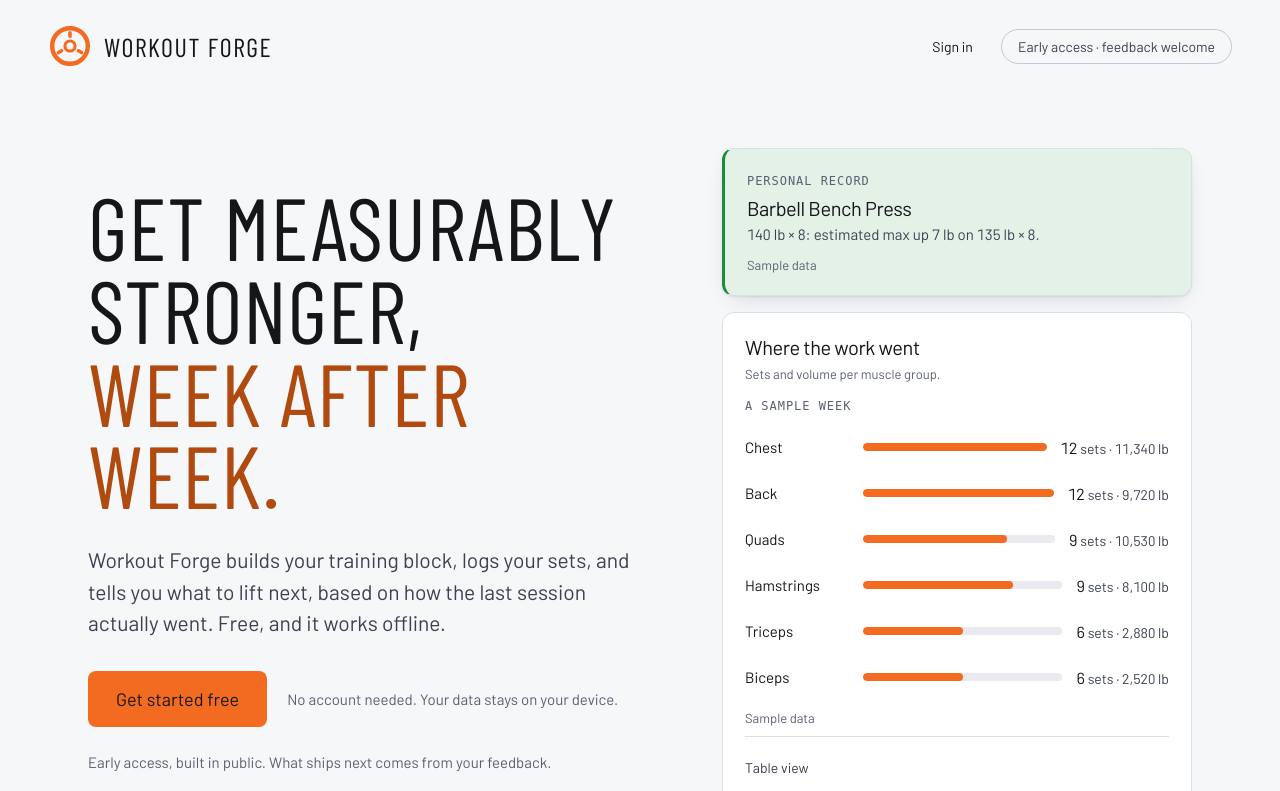
Test: setup: the goal card › names a 12-week choice a program
The width and height of the screenshot is (1280, 791).
Click the button "Get started free" at (178, 699), box 88,671 -> 267,727
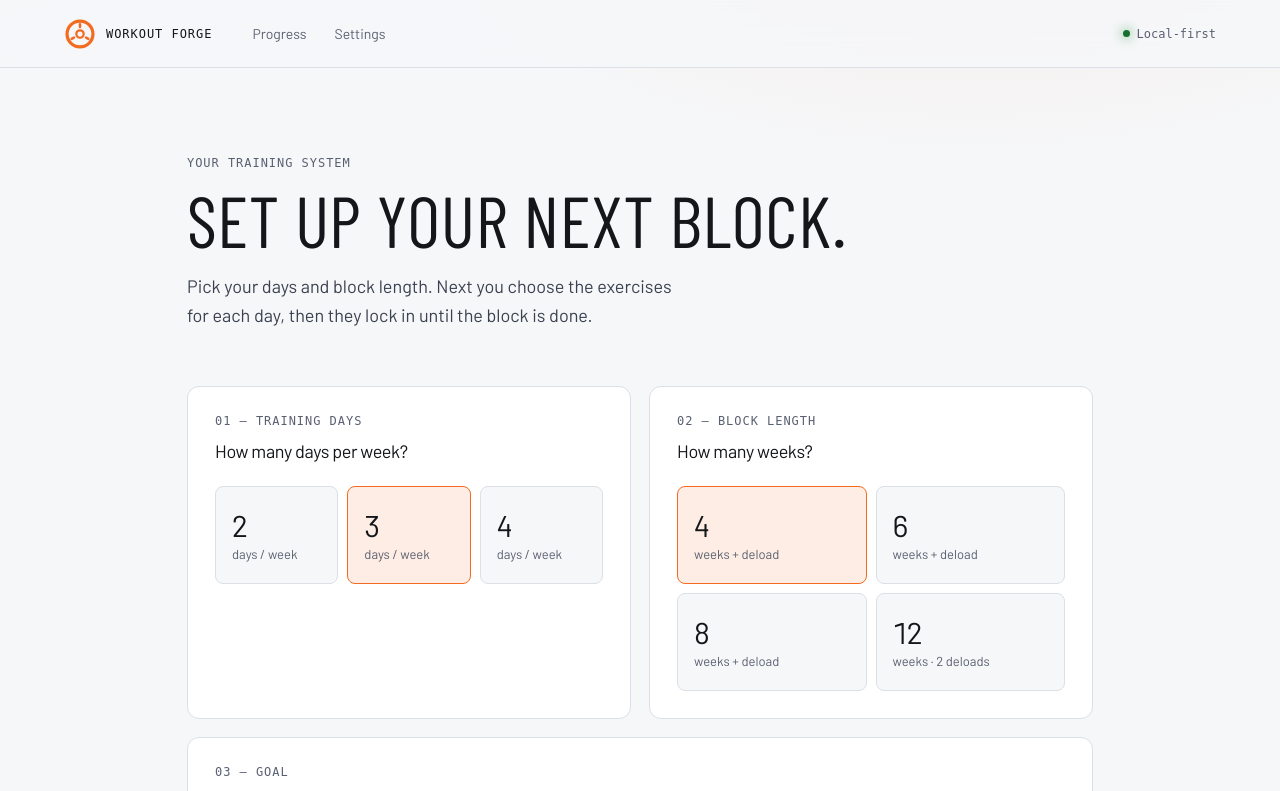
Click the button "12 weeks · 2 deloads" at (970, 642), box 876,593 -> 1065,691
(page scrolled)
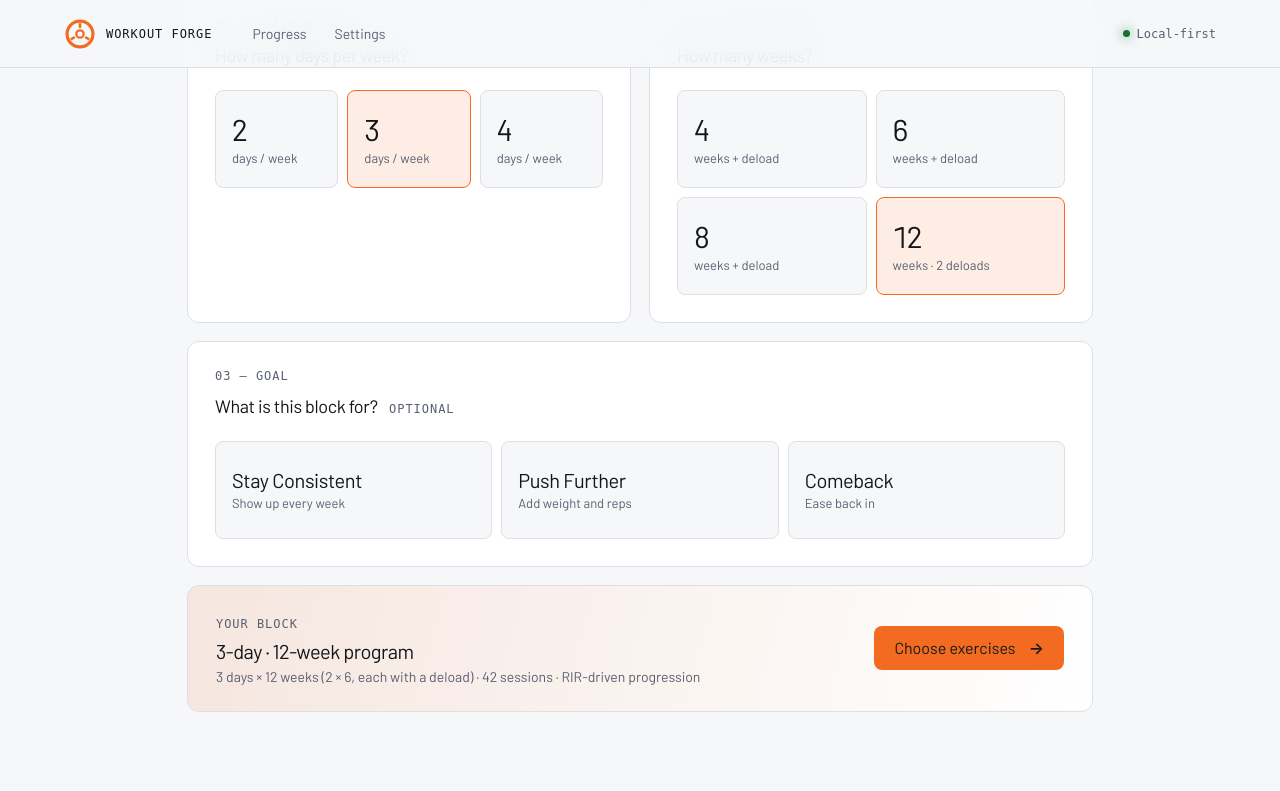
Click the button "Stay Consistent Show up every week" at (354, 490), box 215,441 -> 492,539
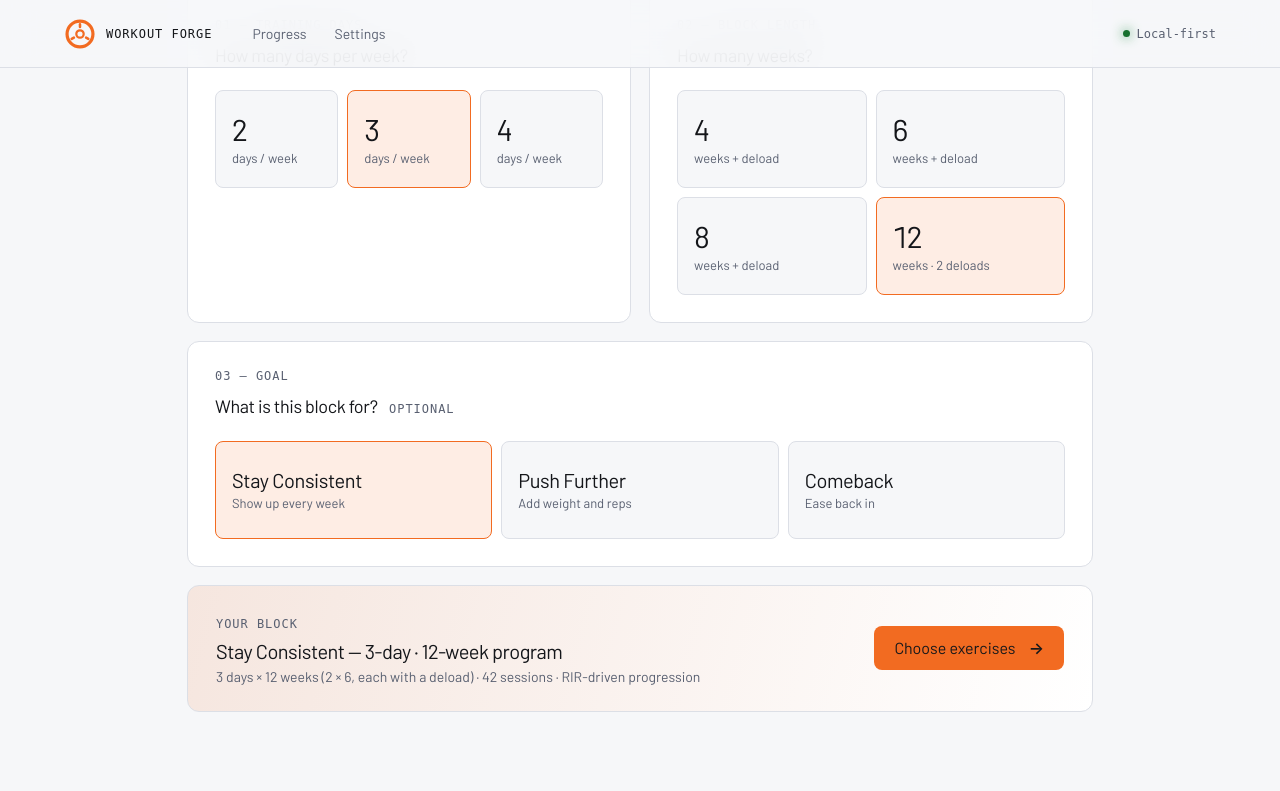
Check: the heading "Stay Consistent — 3-day · 12-week program" is shown, box 216,639 -> 562,663
